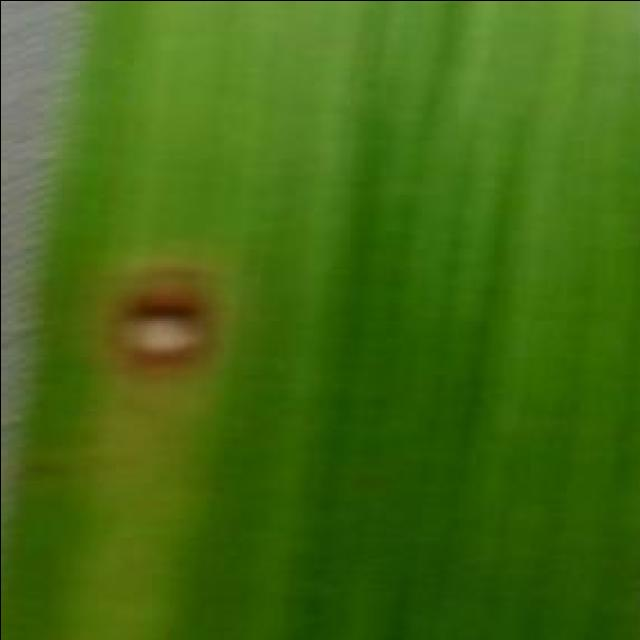Leaf_Blast: (95, 246, 282, 460)
